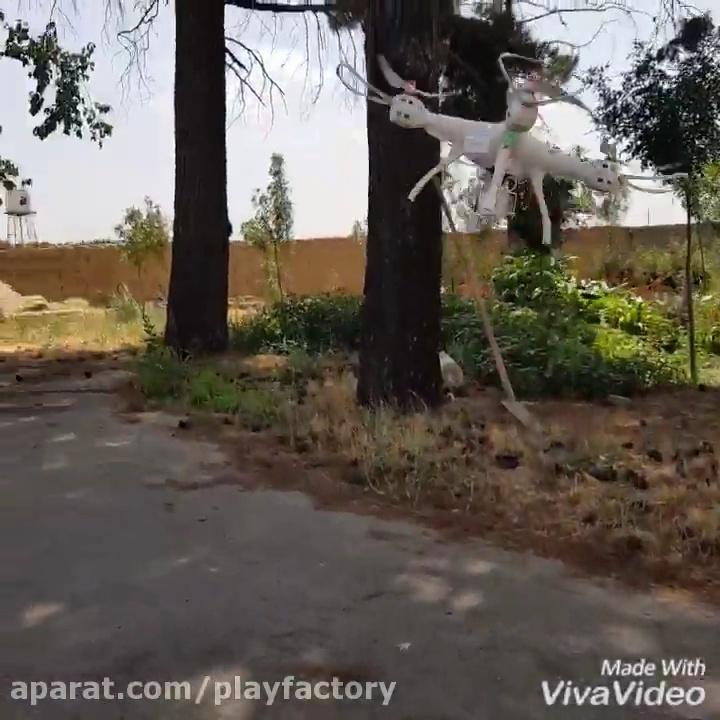drone: (332, 48, 686, 245)
